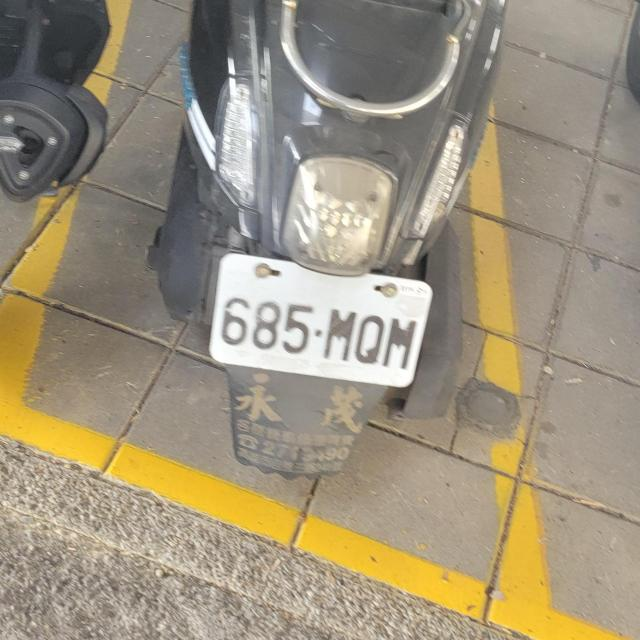W: (202, 247, 436, 392)
